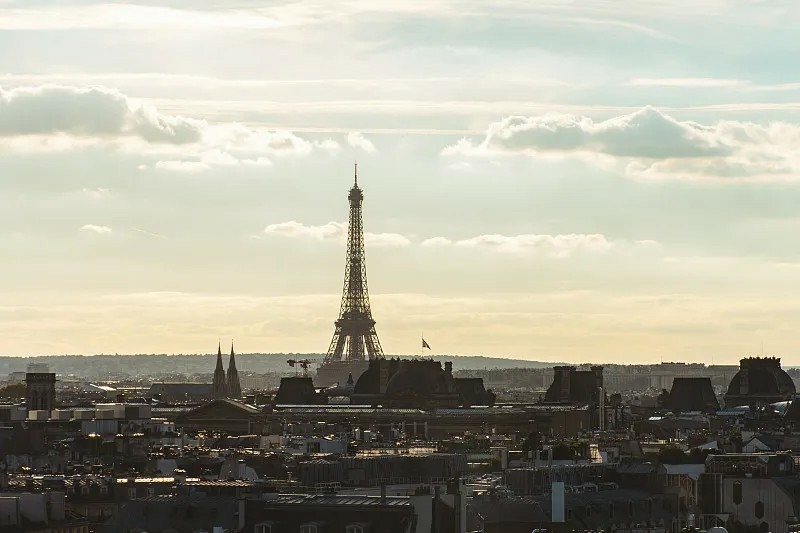Eiffel: (313, 161, 388, 389)
